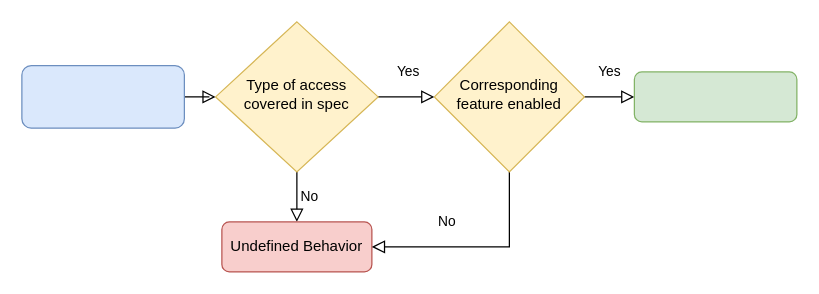
Image size: 819x294. Some labels were removed from this diagram. The centre of each missing label's shape, as x and y in pixels:
Known value returned according to spec: the point at 715,96
Out-of-bounds access occurs: the point at 102,96
